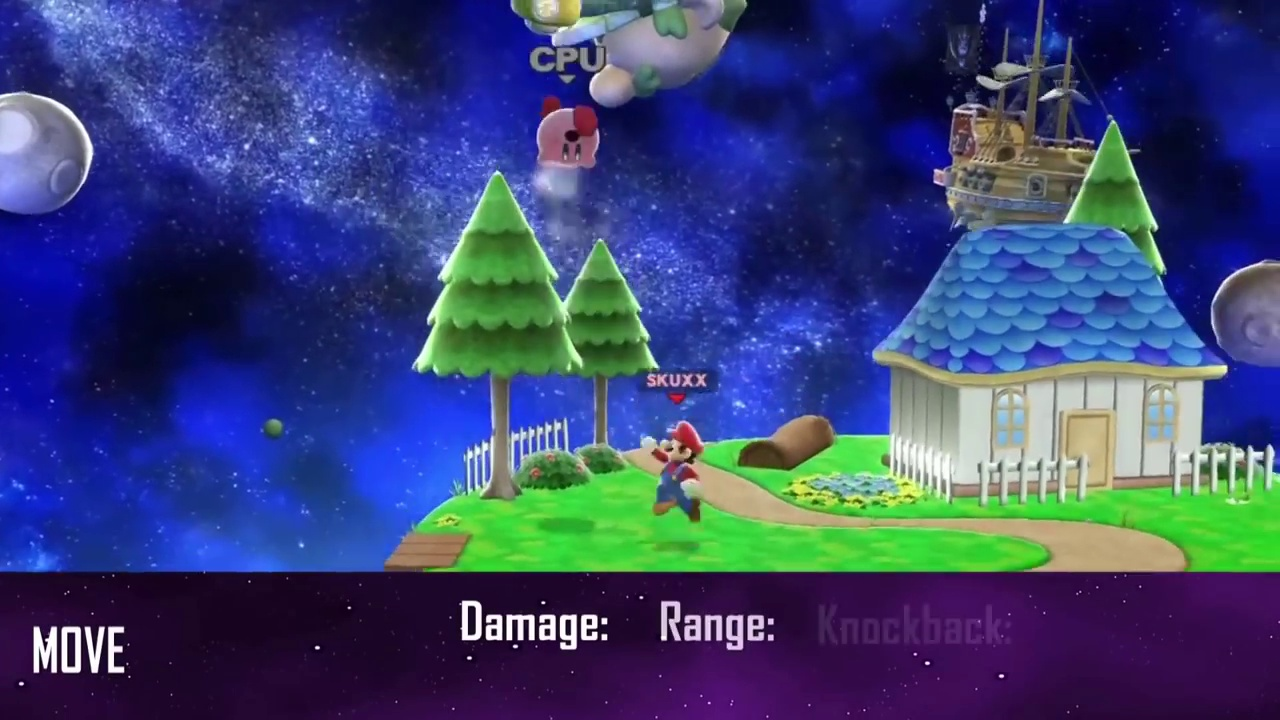Mario: (642, 421, 705, 525)
